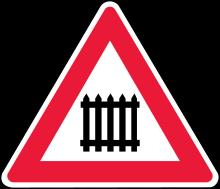Barrier Ahead: (24, 26, 204, 179)
